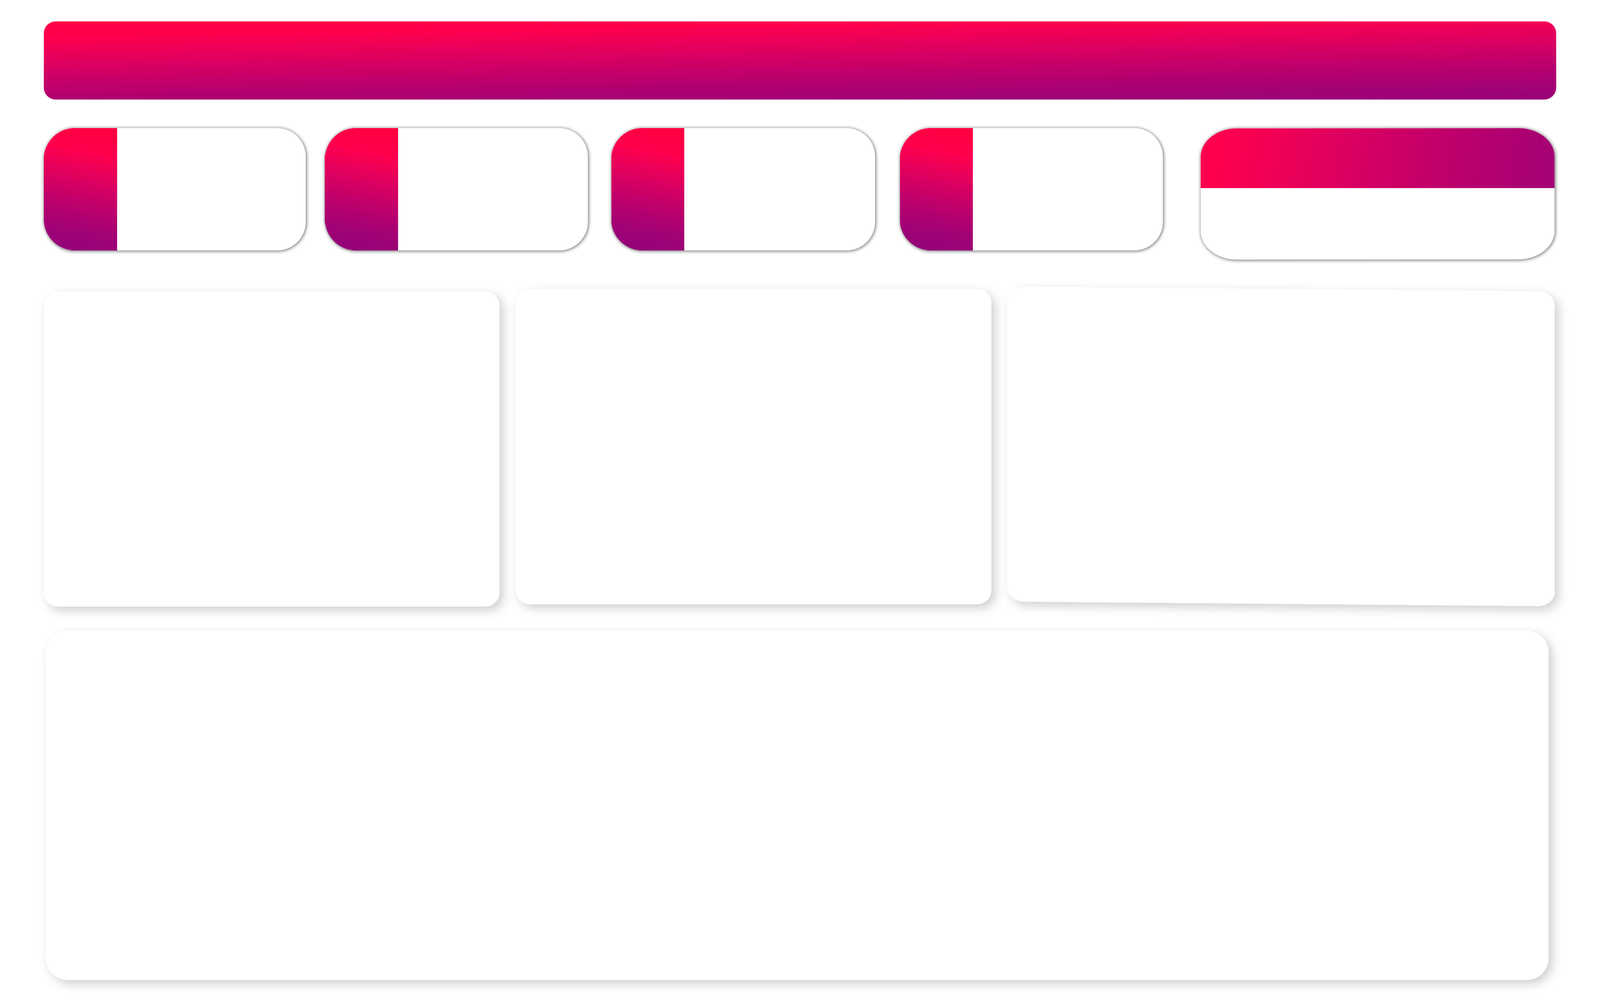

Layout of this report page (visuals, bound fields, positions):
{"tool":"powerbi","page":{"name":"Page 2","canvas":[1680,1050],"ordinal":0},"visuals":[{"type":"textbox","box":[280,27.1,755.7,74.3],"z":0},{"type":"image","box":[2636.7,100,623.3,150],"z":1000},{"type":"slicer","fields":{"Values":["Sheet1.Patient_ID"]},"box":[2400,373.3,793.3,420],"z":2000},{"type":"card","fields":{"Values":["Min(Sheet1.Admit_Date)"]},"box":[437.6,198.8,162.9,42.8],"z":3000},{"type":"card","fields":{"Values":["Min(Sheet1.Discharge_Date)"]},"box":[129.8,198.8,172.6,42.8],"z":4000},{"type":"card","fields":{"Values":["Min(Sheet1.Followup Date)"]},"box":[724.3,198.6,167.1,42.9],"z":5000},{"type":"textbox","box":[152.9,145.7,127.1,57.1],"z":6000},{"type":"textbox","box":[437.1,151.4,151.4,37.1],"z":7000},{"type":"textbox","box":[732.9,151.4,158.6,37.1],"z":8000},{"type":"textbox","box":[1035.7,151.4,151.4,37.1],"z":9000},{"type":"card","fields":{"Values":["Sum(Sheet1.Billing Amount)"]},"box":[1031.4,194.3,158.6,42.9],"z":10000},{"type":"image","box":[50,157.1,68.6,74.3],"z":11000},{"type":"image","box":[348.6,172.9,62.9,62.9],"z":12000},{"type":"image","box":[640,171.4,77.1,62.9],"z":13000},{"type":"image","box":[951.4,158.6,65.7,71.4],"z":14000},{"type":"columnChart","title":"Bed Occupancy","fields":{"Category":["Sheet1.Bed_Occupancy"],"Y":["CountNonNull(Sheet1.Bed_Occupancy)"]},"box":[47.1,305.7,477.1,328.6],"z":15000},{"type":"donutChart","title":"Feedback Volume per Doctor","fields":{"Category":["Sheet1.Doctor"],"Y":["Sum(Sheet1.Feedback)"]},"box":[540.2,305.2,501,329.5],"z":16000},{"type":"funnel","title":"Diagnosis-wise Patient Count","fields":{"Category":["Sheet1.Diagnosis"],"Y":["CountNonNull(Sheet1.Diagnosis)"]},"box":[1060,305.7,560,330],"z":17000},{"type":"image","box":[30,22.5,275,77.5],"z":18000},{"type":"lineChart","title":"Bed Occupancy","fields":{"Y":["Sum(Sheet1.Health Insurance Amount)","Sum(Sheet1.Billing Amount)"],"Category":["Sheet1.Test"]},"box":[31.1,656.3,1589.5,363.3],"z":19000},{"type":"slicer","fields":{"Values":["Sheet1.Admit_Date"]},"box":[1284.3,201.2,360.6,68.9],"z":20000},{"type":"slicer","fields":{"Values":["Sheet1.Patient_ID"]},"box":[1317.1,24.3,292.9,82.9],"z":21000},{"type":"textbox","box":[1365.7,145.7,151.4,37.1],"z":22000}]}

Visuals, with their boxes in screenshot pixels (x1, y1, x2, y2), scaled from the page's 1680x1050 canvas onto the 1600x1000 screenshot:
textbox: {"x1": 267, "y1": 26, "x2": 986, "y2": 97}
card - Min(Sheet1.Admit_Date): {"x1": 417, "y1": 189, "x2": 572, "y2": 230}
card - Min(Sheet1.Discharge_Date): {"x1": 124, "y1": 189, "x2": 288, "y2": 230}
card - Min(Sheet1.Followup Date): {"x1": 690, "y1": 189, "x2": 849, "y2": 230}
textbox: {"x1": 146, "y1": 139, "x2": 267, "y2": 193}
textbox: {"x1": 416, "y1": 144, "x2": 560, "y2": 180}
textbox: {"x1": 698, "y1": 144, "x2": 849, "y2": 180}
textbox: {"x1": 986, "y1": 144, "x2": 1131, "y2": 180}
card - Sum(Sheet1.Billing Amount): {"x1": 982, "y1": 185, "x2": 1133, "y2": 226}
image: {"x1": 48, "y1": 150, "x2": 113, "y2": 220}
image: {"x1": 332, "y1": 165, "x2": 392, "y2": 225}
image: {"x1": 610, "y1": 163, "x2": 683, "y2": 223}
image: {"x1": 906, "y1": 151, "x2": 969, "y2": 219}
"Bed Occupancy" columnChart: {"x1": 45, "y1": 291, "x2": 499, "y2": 604}
"Feedback Volume per Doctor" donutChart: {"x1": 514, "y1": 291, "x2": 992, "y2": 604}
"Diagnosis-wise Patient Count" funnel: {"x1": 1010, "y1": 291, "x2": 1543, "y2": 605}
image: {"x1": 29, "y1": 21, "x2": 290, "y2": 95}
"Bed Occupancy" lineChart: {"x1": 30, "y1": 625, "x2": 1543, "y2": 971}
slicer - Sheet1.Admit_Date: {"x1": 1223, "y1": 192, "x2": 1567, "y2": 257}
slicer - Sheet1.Patient_ID: {"x1": 1254, "y1": 23, "x2": 1533, "y2": 102}
textbox: {"x1": 1301, "y1": 139, "x2": 1445, "y2": 174}
